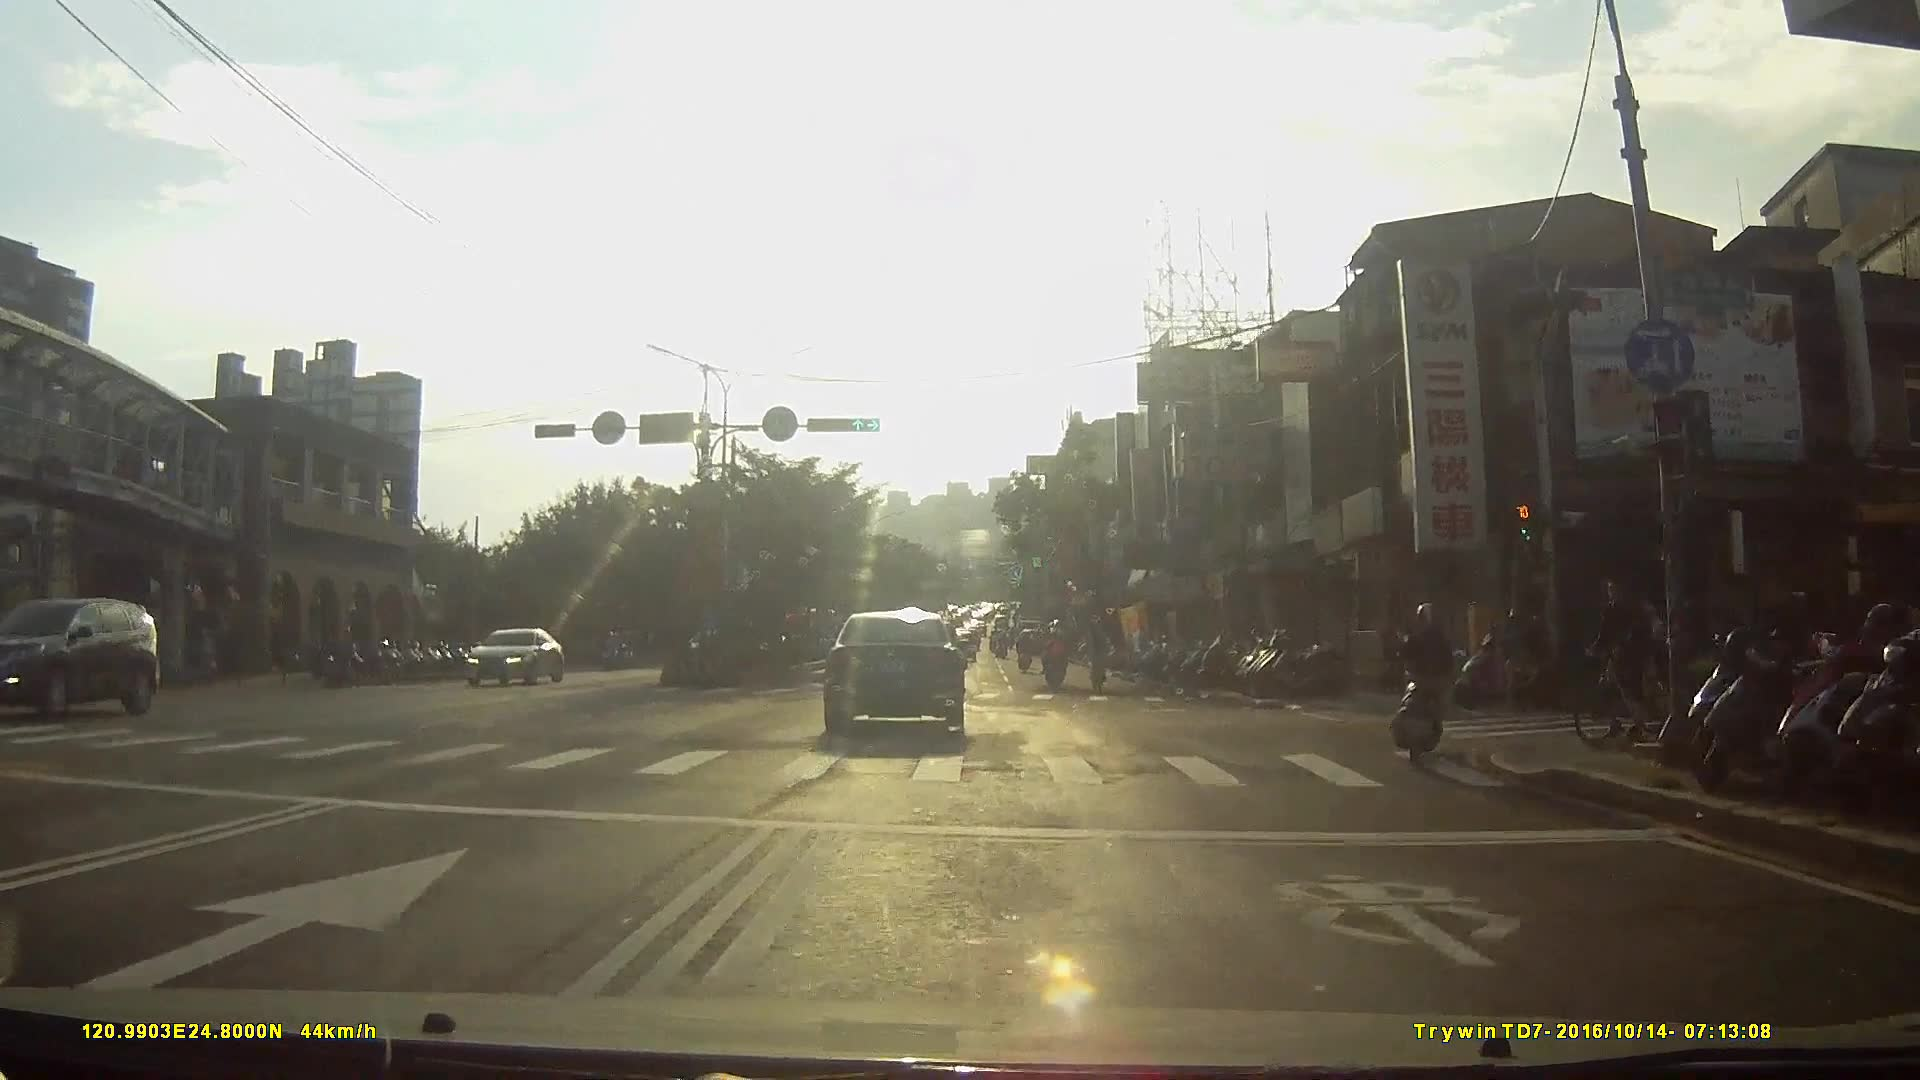rider: (1569, 568, 1699, 749), (1389, 600, 1459, 765), (1041, 627, 1074, 691), (322, 625, 358, 685), (1015, 627, 1037, 675)
vehicle: (823, 609, 983, 751), (12, 585, 172, 724), (463, 628, 567, 687)
